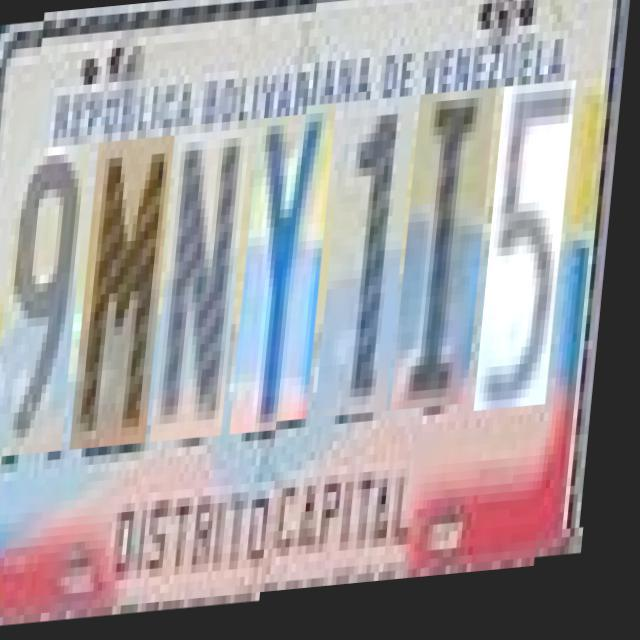1: (324, 104, 418, 425)
5: (483, 91, 579, 422)
9: (0, 137, 94, 449)
I: (399, 98, 499, 420)
M: (80, 130, 178, 444)
N: (160, 125, 254, 437)
Y: (239, 110, 339, 432)
